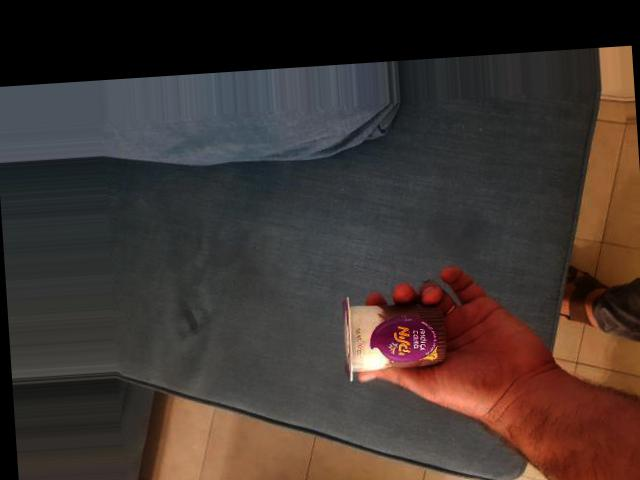milky: (296, 144, 387, 286)
